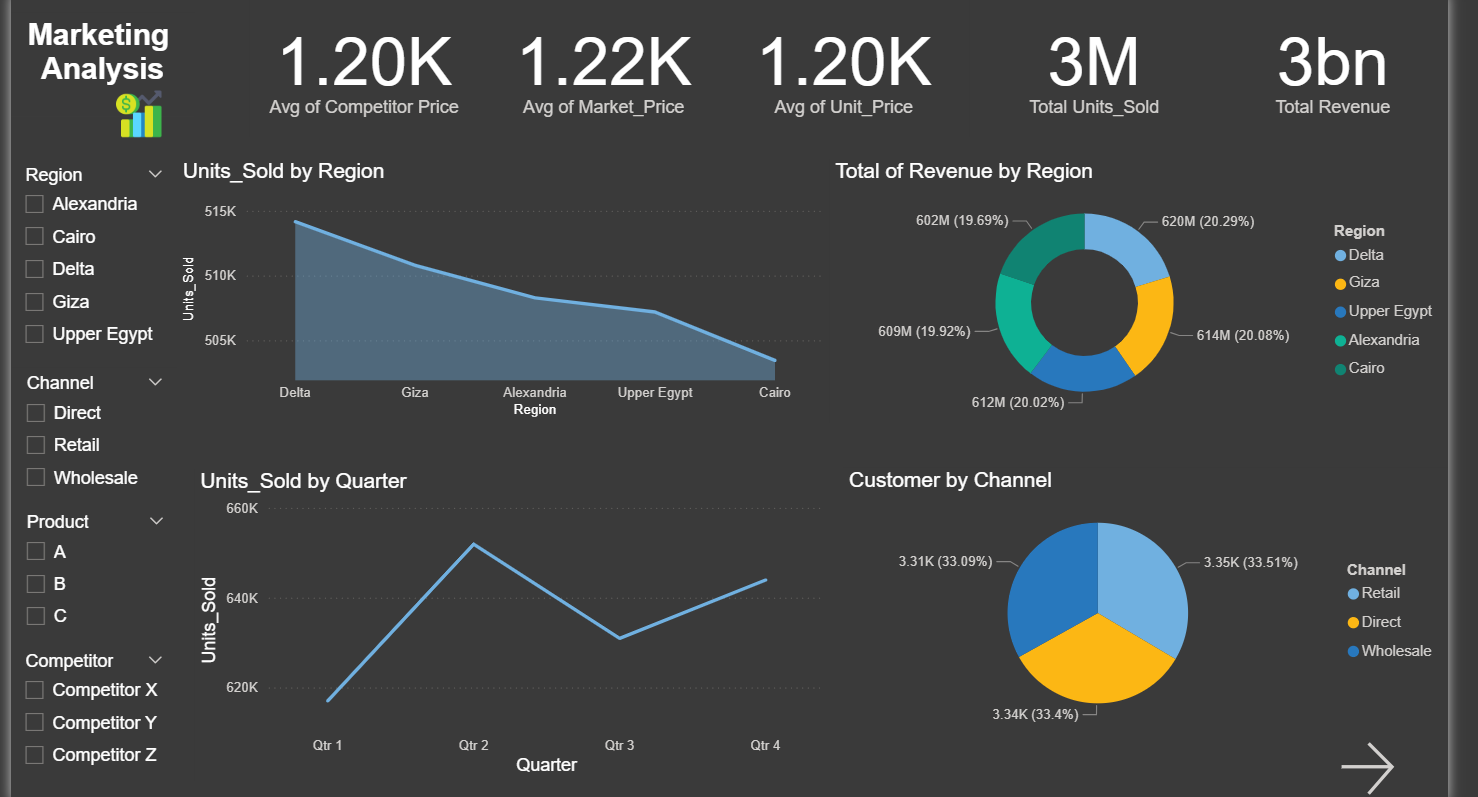

The page's visual inventory and layout, read from the dashboard file:
{"tool":"powerbi","page":{"name":"Sales_Analysis","canvas":[1280,720],"ordinal":0},"visuals":[{"type":"card","fields":{"Values":["Avg(Sales_Data.Unit_Price)"]},"box":[630.4,0,223.3,127.3],"z":0},{"type":"card","fields":{"Values":["Sum(Sales_Data.Units_Sold)"]},"box":[853.7,0,222.1,127.3],"z":1000},{"type":"card","fields":{"Values":["Sum(Sales_Data.Revenue)"]},"box":[1075.9,0,204.1,127.3],"z":2000},{"type":"slicer","fields":{"Values":["Sales_Data.Region"]},"box":[0,146.5,147.7,186.1],"z":3000},{"type":"slicer","fields":{"Values":["Sales_Data.Product"]},"box":[1.2,456.3,147.7,123.7],"z":4000},{"type":"slicer","fields":{"Values":["Competitor_Analysis.Competitor"]},"box":[0,580,147.7,120.1],"z":5000},{"type":"card","fields":{"Values":["Avg(Market_Prices.Average_Market_Price)"]},"box":[416.7,0,223.3,127.3],"z":6000},{"type":"card","fields":{"Values":["Avg(Competitor_Analysis.Price)"]},"box":[212.5,0,204.1,127.3],"z":7000},{"type":"textbox","box":[0,16.8,163.3,92.5],"z":8000},{"type":"image","box":[74.4,78,78,57.6],"z":9000},{"type":"donutChart","fields":{"Category":["Sales_Data.Region"],"Y":["Sum(Sales_Data.Revenue)"]},"box":[728.9,146.5,551.1,235.3],"z":10000},{"type":"slicer","fields":{"Values":["Sales_Data.Channel"]},"box":[1.2,332.6,146.5,123.7],"z":11000},{"type":"pieChart","fields":{"Category":["Sales_Data.Channel"],"Y":["CountNonNull(Sales_Data.Customer)"]},"box":[741.9,422.1,538.4,238.4],"z":12000},{"type":"lineChart","fields":{"Category":["Sales_Data.Date.Variation.Date Hierarchy.Quarter","Sales_Data.Date.Variation.Date Hierarchy.Month","Sales_Data.Date.Variation.Date Hierarchy.Day"],"Y":["Sum(Sales_Data.Units_Sold)"]},"box":[163.3,422.7,565.6,277.4],"z":13000},{"type":"areaChart","fields":{"Category":["Sales_Data.Region"],"Y":["Sum(Sales_Data.Units_Sold)"]},"box":[147.7,146.5,580.2,234.9],"z":14000},{"type":"actionButton","box":[1177.9,660.5,102.3,59.3],"z":15000}]}

Visuals, with their boxes on the page's 1280x720 design canvas (x1, y1, x2, y2). These are canvas units, not pixel positions in the 1478x797 screenshot, which may show the page scaled, cropped or inside an application window:
card - Avg(Sales_Data.Unit_Price): [left=630, top=0, right=854, bottom=127]
card - Sum(Sales_Data.Units_Sold): [left=854, top=0, right=1076, bottom=127]
card - Sum(Sales_Data.Revenue): [left=1076, top=0, right=1280, bottom=127]
slicer - Sales_Data.Region: [left=0, top=146, right=148, bottom=333]
slicer - Sales_Data.Product: [left=1, top=456, right=149, bottom=580]
slicer - Competitor_Analysis.Competitor: [left=0, top=580, right=148, bottom=700]
card - Avg(Market_Prices.Average_Market_Price): [left=417, top=0, right=640, bottom=127]
card - Avg(Competitor_Analysis.Price): [left=212, top=0, right=417, bottom=127]
textbox: [left=0, top=17, right=163, bottom=109]
image: [left=74, top=78, right=152, bottom=136]
donutChart - Sales_Data.Region x Sum(Sales_Data.Revenue): [left=729, top=146, right=1280, bottom=382]
slicer - Sales_Data.Channel: [left=1, top=333, right=148, bottom=456]
pieChart - Sales_Data.Channel x CountNonNull(Sales_Data.Customer): [left=742, top=422, right=1280, bottom=660]
lineChart - Sales_Data.Date.Variation.Date Hierarchy.Quarter x Sales_Data.Date.Variation.Date Hierarchy.Month: [left=163, top=423, right=729, bottom=700]
areaChart - Sales_Data.Region x Sum(Sales_Data.Units_Sold): [left=148, top=146, right=728, bottom=381]
actionButton: [left=1178, top=660, right=1280, bottom=720]
